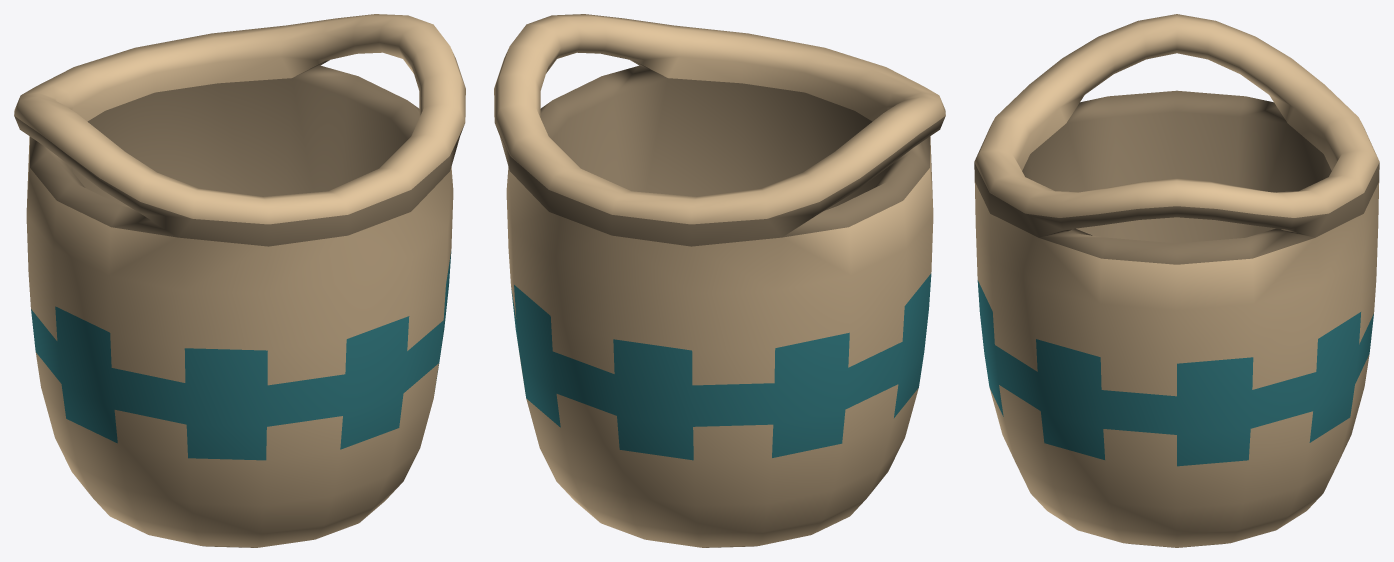
Rendered from Cesta.fbx.
3 views of the same model, side by side, from view 1: azimuth 30°, elevation 25°; view 2: azimuth 150°, elevation 25°; view 3: azimuth 270°, elevation 25° (orthographic). The views are drawn at different scales.
Parts seen in each view (by area): view 1: Cesta; view 2: Cesta; view 3: Cesta.
Boxes of the visible parts, x1,y1,x2,y2 form: Cesta: [14, 14, 465, 547]; Cesta: [494, 14, 945, 547]; Cesta: [974, 14, 1379, 547].
Size of the model in its own units: 76.16 by 77.97 by 71.8.
